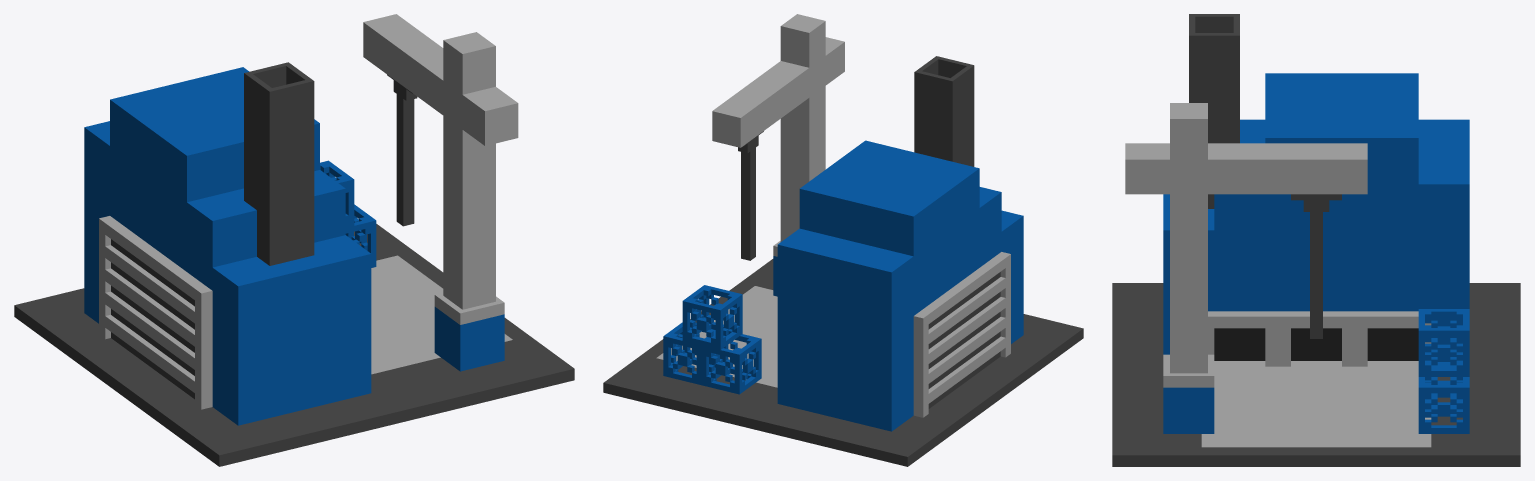
Rendered from Blue-6.obj.
3 renders of one model, left to right at view 1: azimuth 30°, elevation 25°; view 2: azimuth 150°, elevation 25°; view 3: azimuth 270°, elevation 25°, orthographic. The views are drawn at different scales.
Visible parts, largest first — view 1: Blue-6; view 2: Blue-6; view 3: Blue-6.
Part boxes in pixels (x1,y1,x2,y2): Blue-6: (14,14,574,466); Blue-6: (603,14,1083,466); Blue-6: (1112,14,1520,466).
Size of the model in its own units: 64 by 56 by 64.
1 material, 1 textured.
